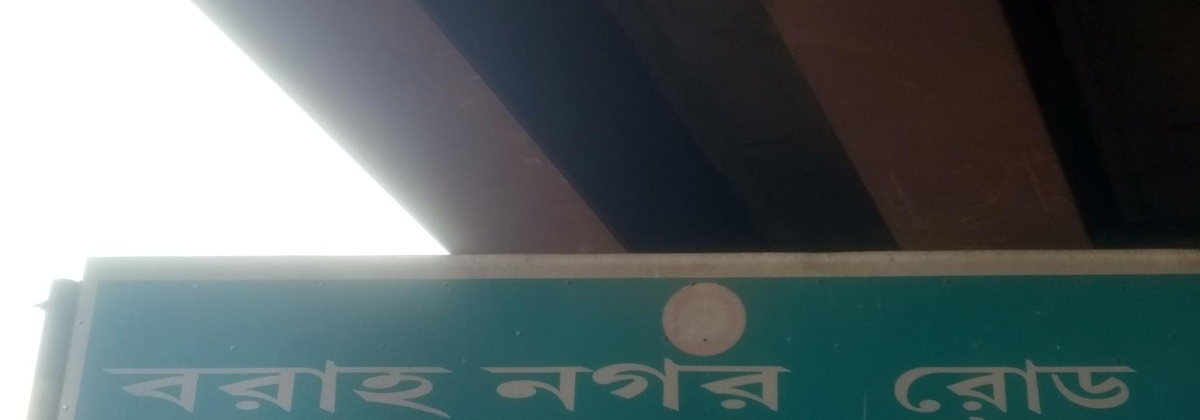text: (113, 357, 128, 419), (129, 357, 144, 419), (145, 357, 160, 419), (161, 357, 176, 419), (177, 357, 192, 419), (193, 357, 208, 419), (209, 357, 224, 419), (225, 357, 240, 419), (241, 357, 256, 419), (257, 357, 272, 419), (273, 357, 288, 419), (289, 357, 304, 419), (305, 357, 320, 419), (321, 357, 336, 419), (337, 357, 352, 419), (353, 357, 368, 419), (369, 357, 384, 419), (385, 357, 400, 419), (401, 357, 416, 419), (417, 357, 432, 419), (433, 357, 448, 419), (1121, 359, 1137, 415), (481, 359, 496, 415), (497, 359, 512, 415), (513, 359, 528, 415), (529, 359, 544, 415), (545, 359, 560, 415), (561, 359, 576, 415), (577, 359, 592, 415), (593, 359, 608, 415), (609, 359, 624, 415), (625, 359, 640, 415), (641, 359, 656, 415), (657, 359, 672, 415), (673, 359, 688, 415), (689, 359, 704, 415), (705, 359, 720, 415), (721, 359, 736, 415), (737, 359, 752, 415), (753, 359, 768, 415), (769, 359, 784, 415), (897, 359, 912, 415), (913, 359, 928, 415), (929, 359, 944, 415), (945, 359, 960, 415), (961, 359, 976, 415), (977, 359, 992, 415), (993, 359, 1008, 415), (1009, 359, 1024, 415), (1025, 359, 1040, 415), (1041, 359, 1056, 415), (1057, 359, 1072, 415), (1073, 359, 1088, 415), (1089, 359, 1104, 415), (1105, 359, 1120, 415), (102, 357, 112, 419), (785, 359, 792, 415), (449, 357, 455, 419), (893, 359, 896, 415), (478, 359, 480, 415)
